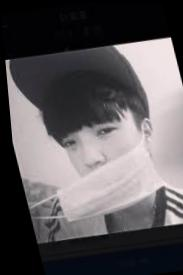WRONG: (54, 111, 154, 208)
